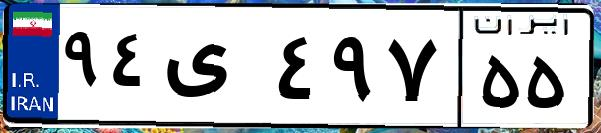4: (270, 28, 330, 110), (110, 28, 158, 98)
5: (475, 38, 525, 113), (525, 38, 570, 115)
7: (385, 28, 445, 110)
9: (330, 28, 385, 110), (57, 26, 110, 100)
ی: (158, 20, 270, 120)
